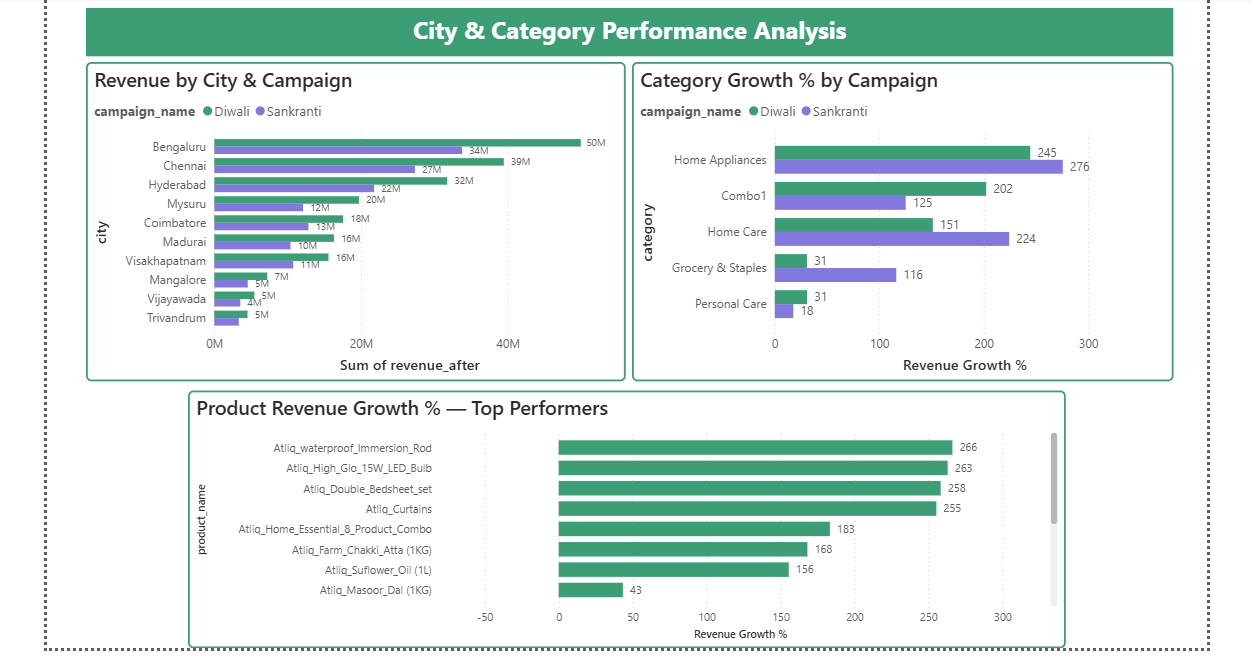

Layout of this report page (visuals, bound fields, positions):
{"tool":"powerbi","page":{"name":"City & Category Analysis","canvas":[1280,720],"ordinal":2},"visuals":[{"type":"textbox","box":[43.1,13.3,1200.9,53],"z":0},{"type":"clusteredBarChart","title":"Revenue by City & Campaign","fields":{"Category":["atliq_promotion_analysis_final.city"],"Series":["atliq_promotion_analysis_final.campaign_name"],"Y":["Sum(atliq_promotion_analysis_final.revenue_after)"]},"box":[43.1,72.9,596.3,352.8],"z":1000},{"type":"clusteredBarChart","title":"Category Growth % by Campaign","fields":{"Category":["atliq_promotion_analysis_final.category"],"Y":["atliq_promotion_analysis_final.Revenue Growth %"],"Series":["atliq_promotion_analysis_final.campaign_name"]},"box":[646,72.9,598,352.8],"z":2000},{"type":"clusteredBarChart","title":"Product Revenue Growth % — Top Performers","fields":{"Category":["atliq_promotion_analysis_final.product_name"],"Y":["atliq_promotion_analysis_final.Revenue Growth %"]},"box":[155.7,435.7,969,284.9],"z":3000}]}

Visuals, with their boxes on the page's 1280x720 design canvas (x1, y1, x2, y2). These are canvas units, not pixel positions in the 1252x658 screenshot, which may show the page scaled, cropped or inside an application window:
textbox: (43,13,1244,66)
"Revenue by City & Campaign" clusteredBarChart: (43,73,639,426)
"Category Growth % by Campaign" clusteredBarChart: (646,73,1244,426)
"Product Revenue Growth % — Top Performers" clusteredBarChart: (156,436,1125,721)
